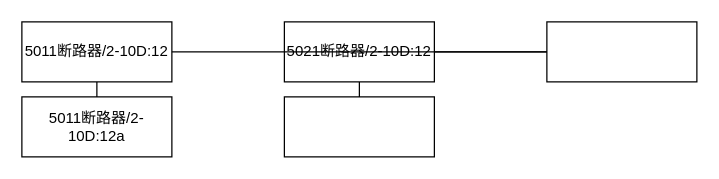
Some shapes in this 719 by 179 pixel diagram are drawn without their labels. Here are the shapes that lost their labels. From the top down, the centre of each, then its label:
(621,51): 2-10n1X10
(358,126): 5021断路器/2-10D:12a
